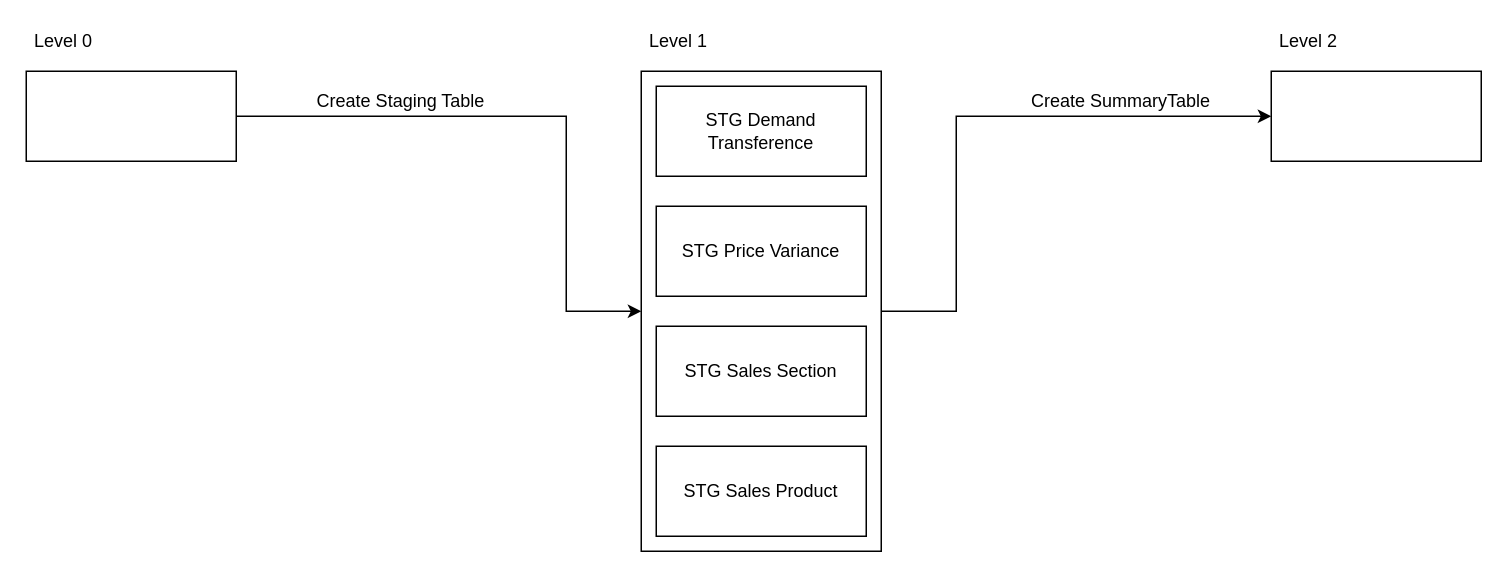
Some shapes in this 1508 by 578 pixel diagram are drawn without their labels. The box of each missing label's shape, as (x1, y1, x2, y2) in pixels:
Demand Transference Exc: (25, 70, 236, 161)
Summary Demand Transference: (1270, 70, 1481, 161)
